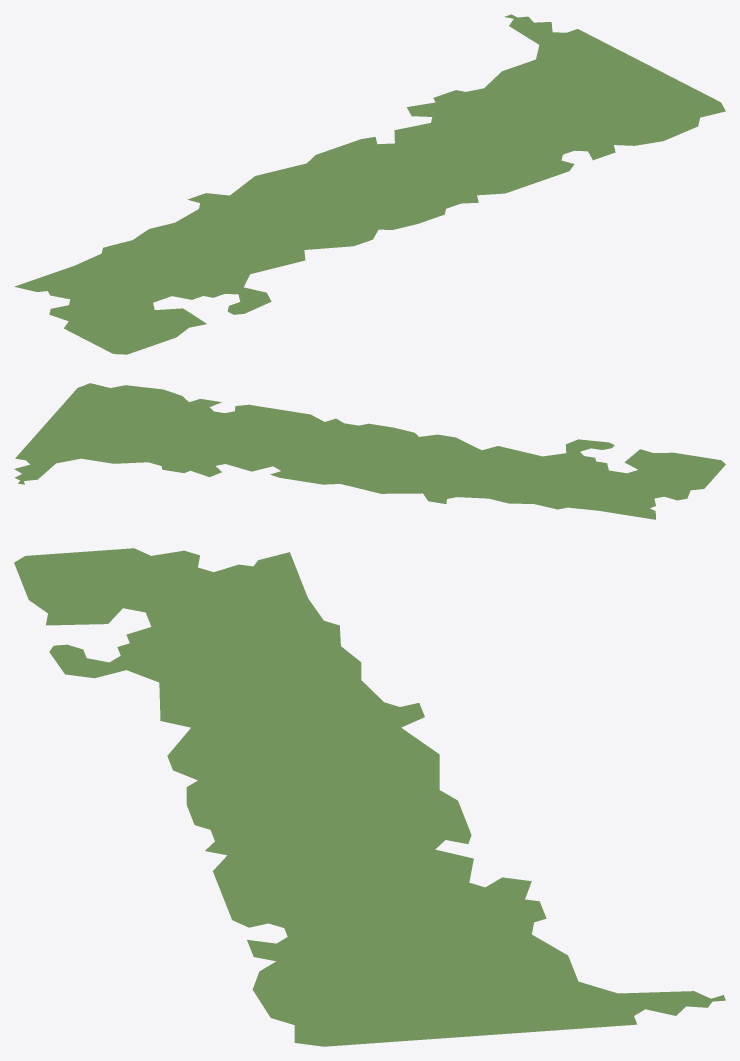
Rendered from garden.glb.
The picture shows the model from 3 angles, top to bottom: view 1: azimuth 30°, elevation 25°; view 2: azimuth 150°, elevation 25°; view 3: azimuth 270°, elevation 25°; orthographic projection. The views are drawn at different scales.
Parts seen in each view (by area): view 1: garden; view 2: garden; view 3: garden.
Part boxes in pixels (box(x1,y1,x2,y2)): garden: box(14, 14, 725, 354); garden: box(14, 383, 725, 519); garden: box(14, 548, 725, 1046).
Bounding box in the file's own units: 20.98 × 0 × 12.66.
